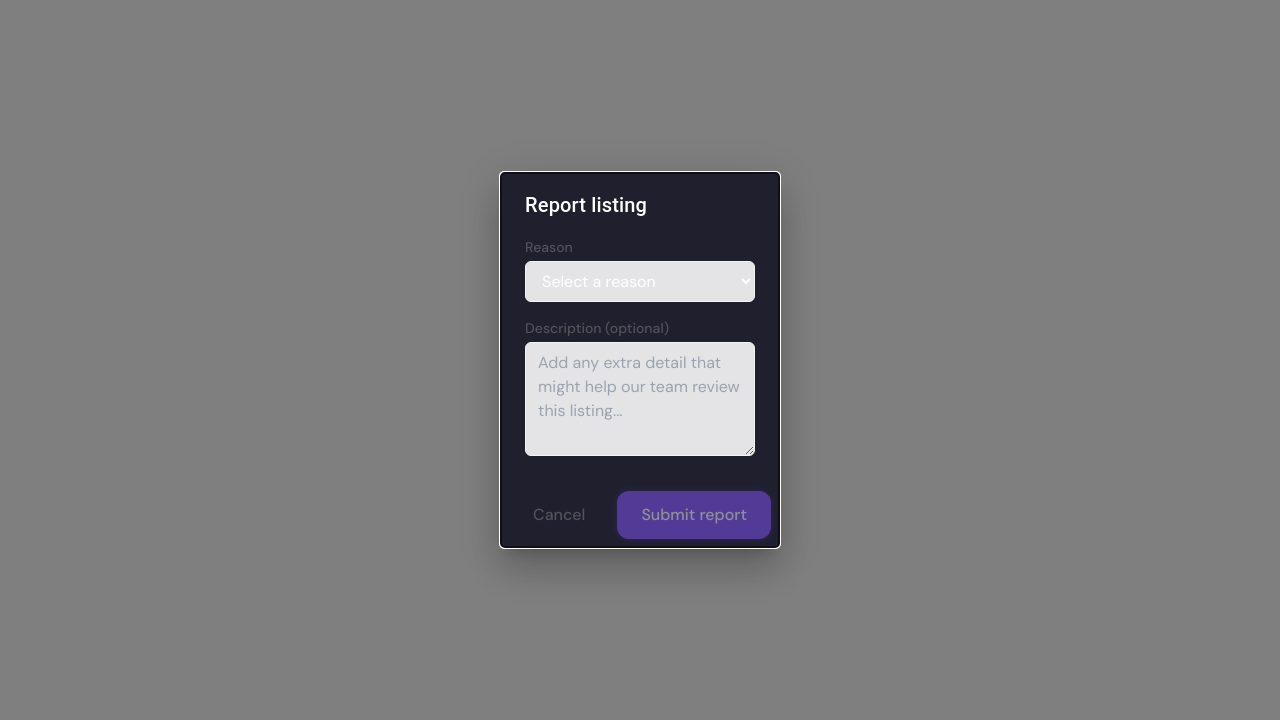
Test: ReportListingDialog › shows the friendly self-report message on a 403 from the backend
The width and height of the screenshot is (1280, 720).
Select "Spam" in the dropdown labelled "Reason": {"x": 640, "y": 282} [525,261,755,302]
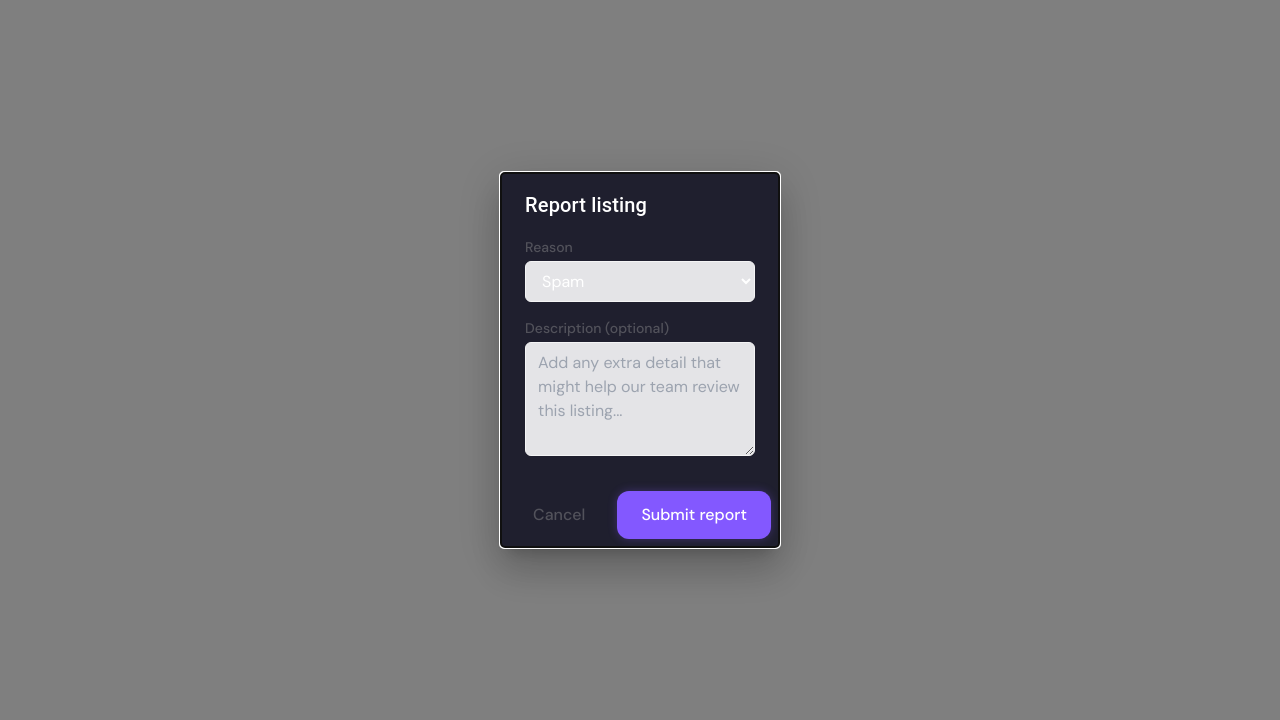
Click the button "Submit report": {"x": 694, "y": 515} [617,491,771,539]
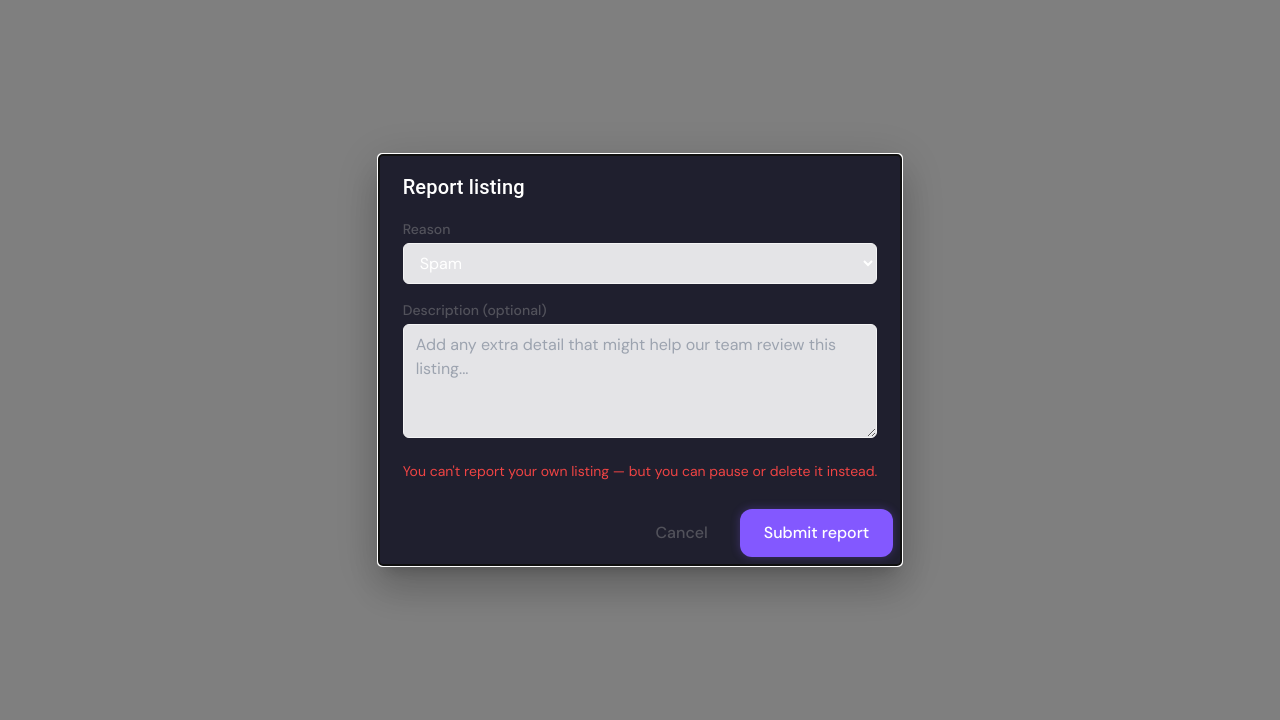
Expected: the text "You can't report your own listing — but you can pause or delete it instead." is shown, [403,461,877,481]
